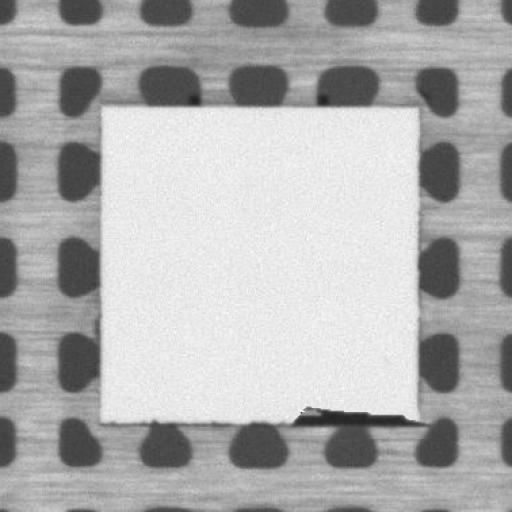DIE_BROKEN: (283, 402, 425, 426)
